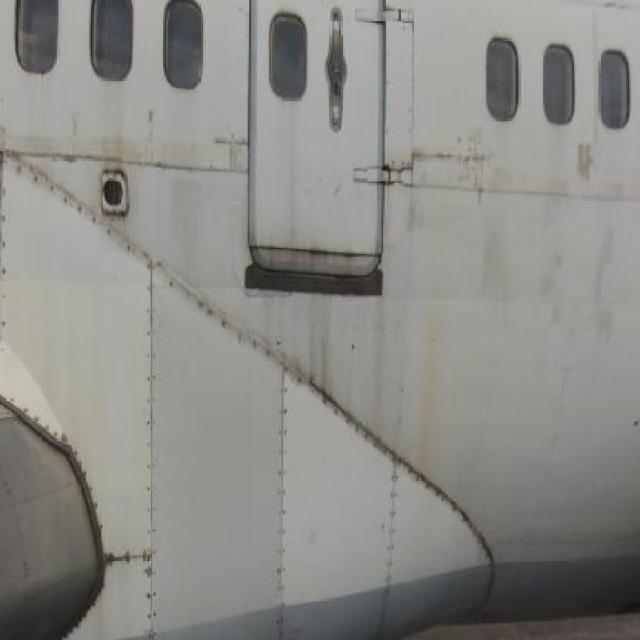Missing-Rivet: (100, 535, 154, 580)
Rust: (410, 252, 456, 494), (305, 280, 347, 418), (365, 283, 392, 442), (260, 237, 372, 269), (96, 78, 132, 164)
Scartch: (478, 173, 632, 370), (412, 127, 496, 185)
